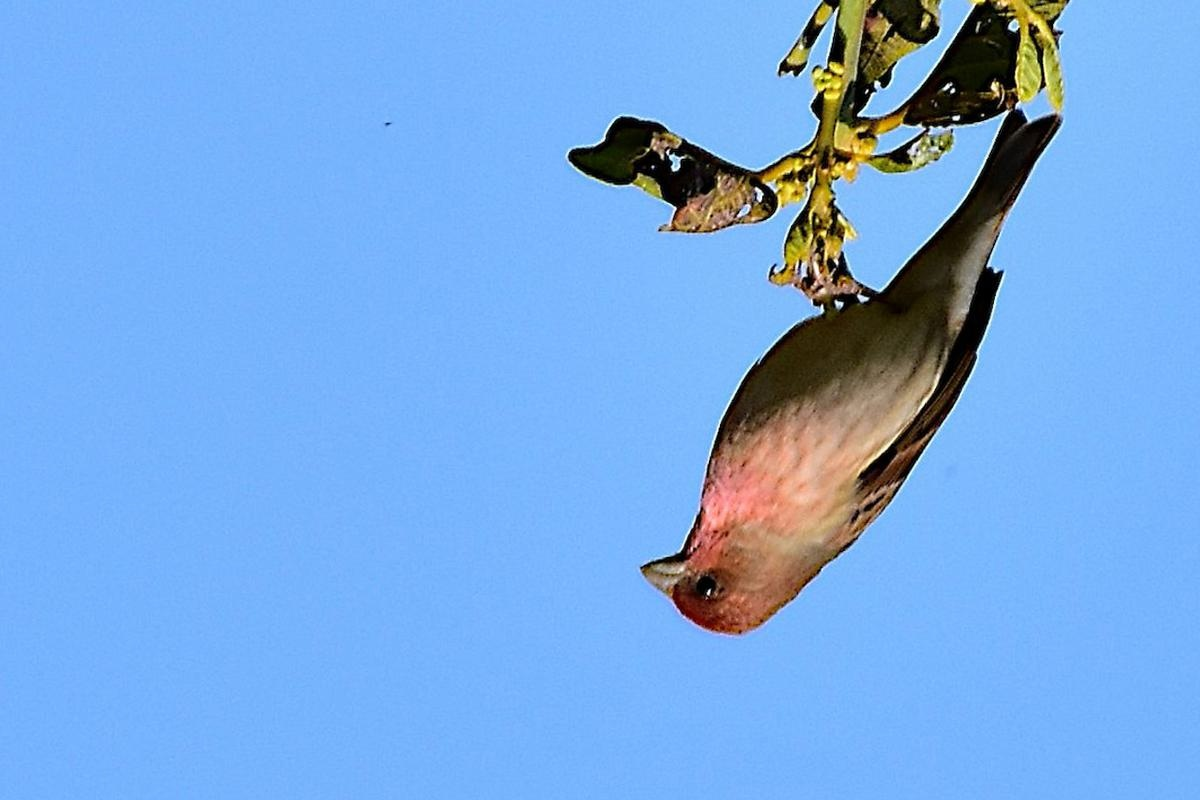rosefinch: (614, 165, 1101, 672)
